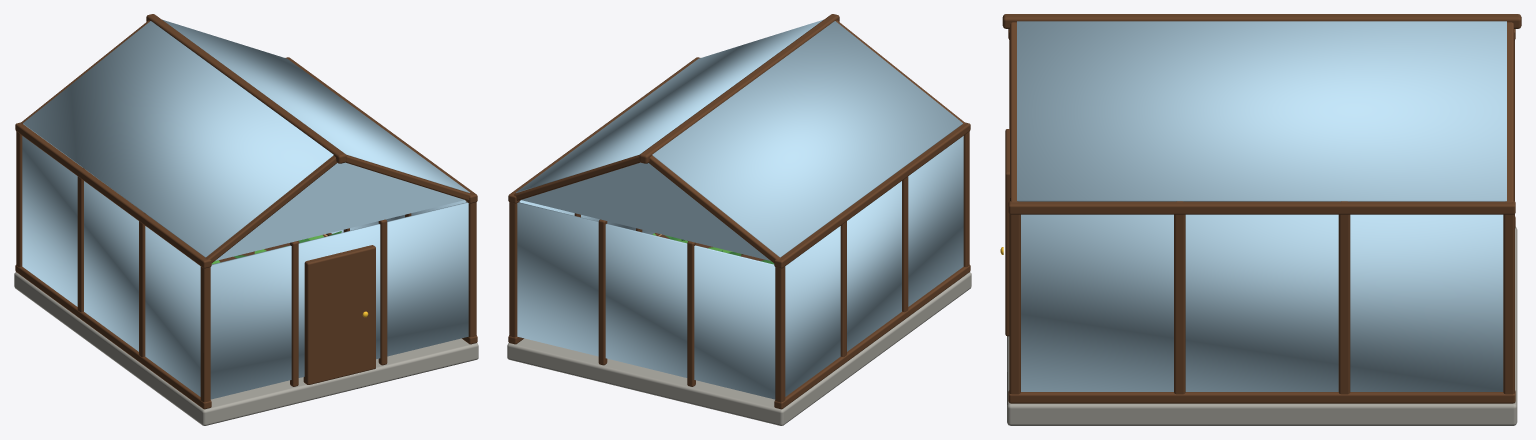
File: GreenhouseSmall.fbx
3 views of the same model, side by side, from view 1: azimuth 30°, elevation 25°; view 2: azimuth 150°, elevation 25°; view 3: azimuth 270°, elevation 25° (orthographic). The views are drawn at different scales.
Parts seen in each view (by area): view 1: Body__Glass, Body__WoodDark, Body__Concrete; view 2: Body__Glass, Body__WoodDark, Body__Concrete; view 3: Body__Glass, Body__WoodDark, Body__Concrete.
Boxes of the visible parts, x1,y1,x2,y2 form: Body__Glass: [22, 19, 469, 399]; Body__WoodDark: [15, 14, 477, 409]; Body__Concrete: [14, 272, 478, 425]; Body__Glass: [516, 19, 963, 399]; Body__WoodDark: [508, 14, 970, 409]; Body__Concrete: [507, 272, 971, 425]; Body__Glass: [1017, 21, 1506, 391]; Body__WoodDark: [1002, 14, 1521, 403]; Body__Concrete: [1007, 227, 1517, 425].
Size of the model in its own units: 5.2 by 4.81 by 6.33.
